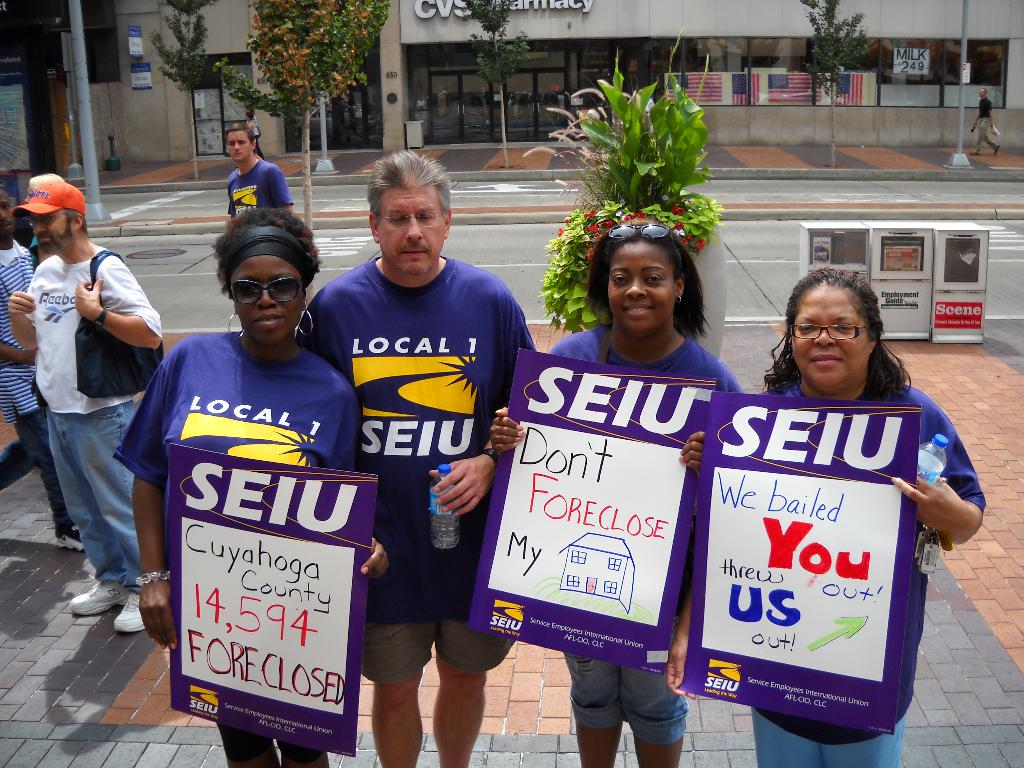Person: (0, 103, 989, 768), (968, 86, 1002, 158)
